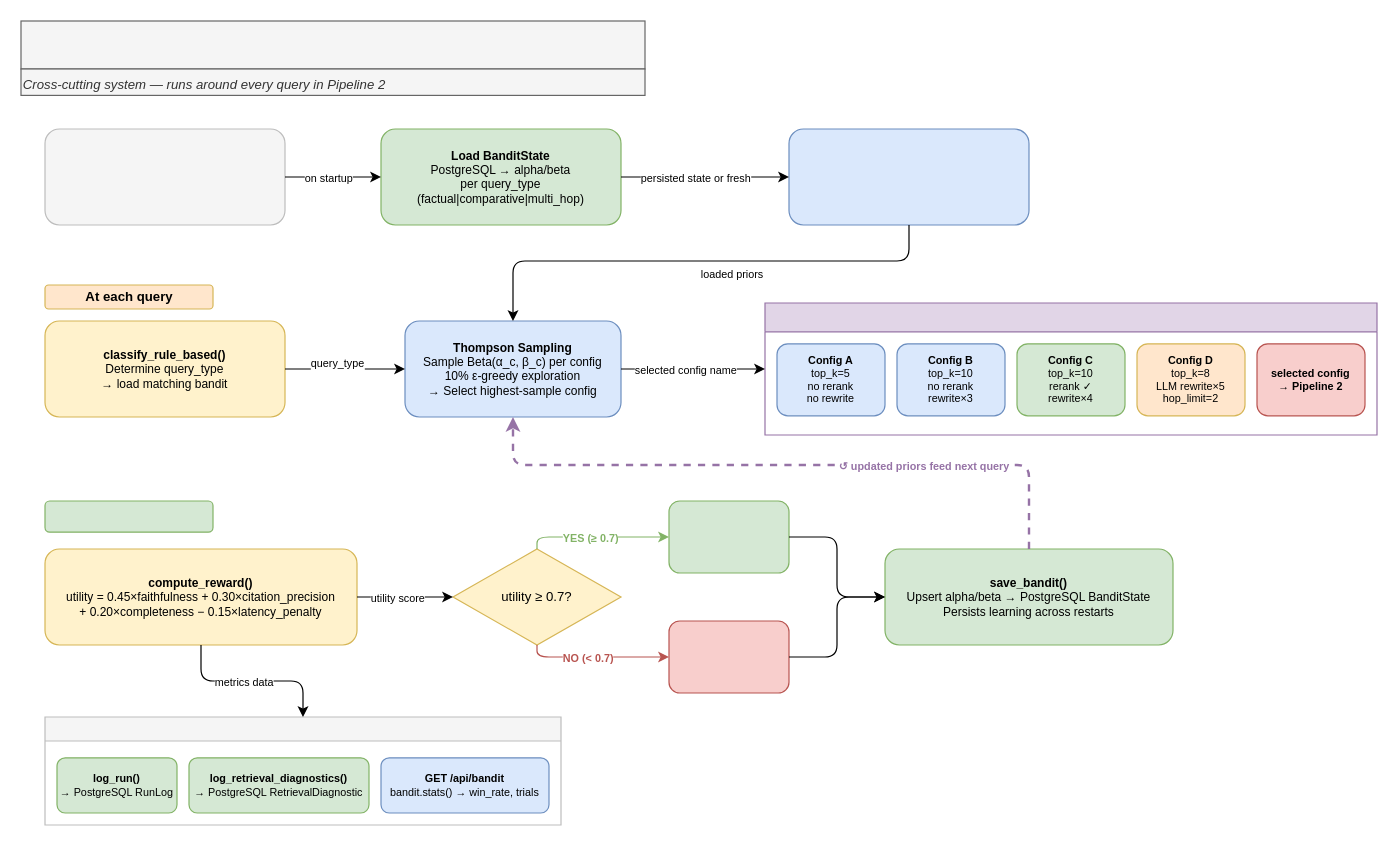
Image size: 1398x846. Some labels were removed from this diagram. The box of each missing label's shape, as (x1, y1, x2, y2) in pixels:
After pipeline completes: (44, 500, 213, 532)
alpha[config] += 1 ✓ Success signal: (668, 500, 789, 573)
Analytics Logging: (44, 716, 561, 825)
beta[config] += 1 ✗ Failure signal: (668, 620, 789, 693)
Initialize Priors Default: Beta(1,1) for configs A, B, C, D (equal probability): (788, 128, 1029, 225)
Pipeline 4 — Bandit Optimization (Thompson Sampling): (20, 20, 645, 69)
Retrieval Configs: (764, 302, 1377, 435)
Startup / Pre-Query Application launch (lifespan): (44, 128, 285, 225)
